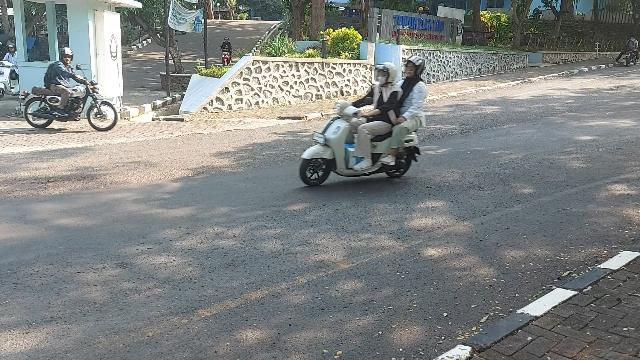helm: (372, 63, 398, 85), (403, 56, 426, 79), (61, 48, 74, 64)
motor: (300, 91, 422, 188), (20, 65, 119, 132)
